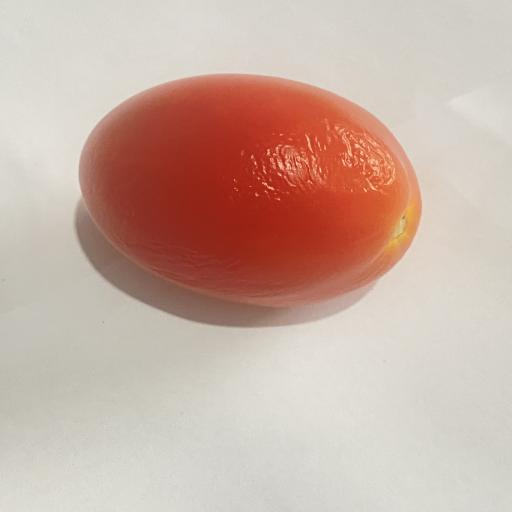spoiled: (79, 74, 421, 306)
